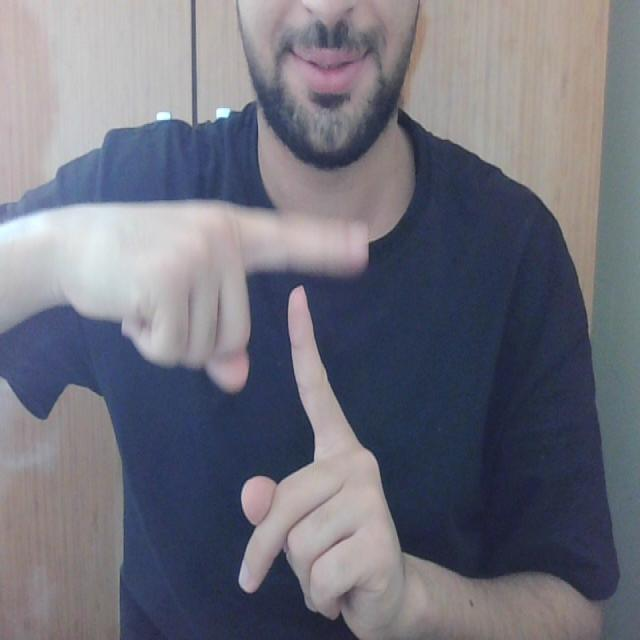Tesekkurler: (218, 178, 381, 476)
